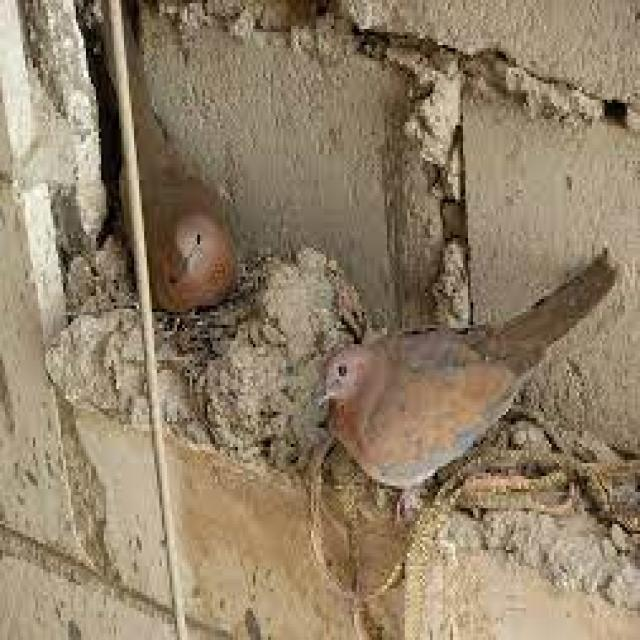dove: (313, 256, 635, 509), (93, 34, 263, 317)
